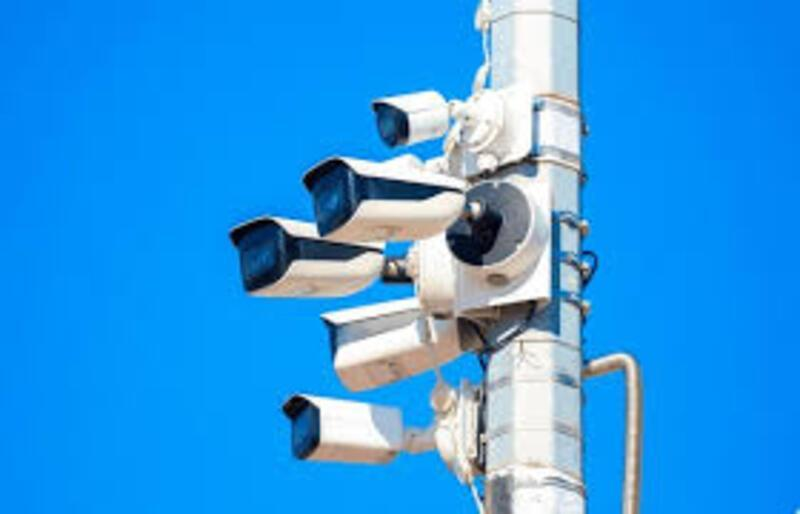bullet: (223, 210, 391, 300), (299, 161, 467, 247), (325, 305, 463, 387), (273, 393, 399, 468), (373, 94, 457, 152)
